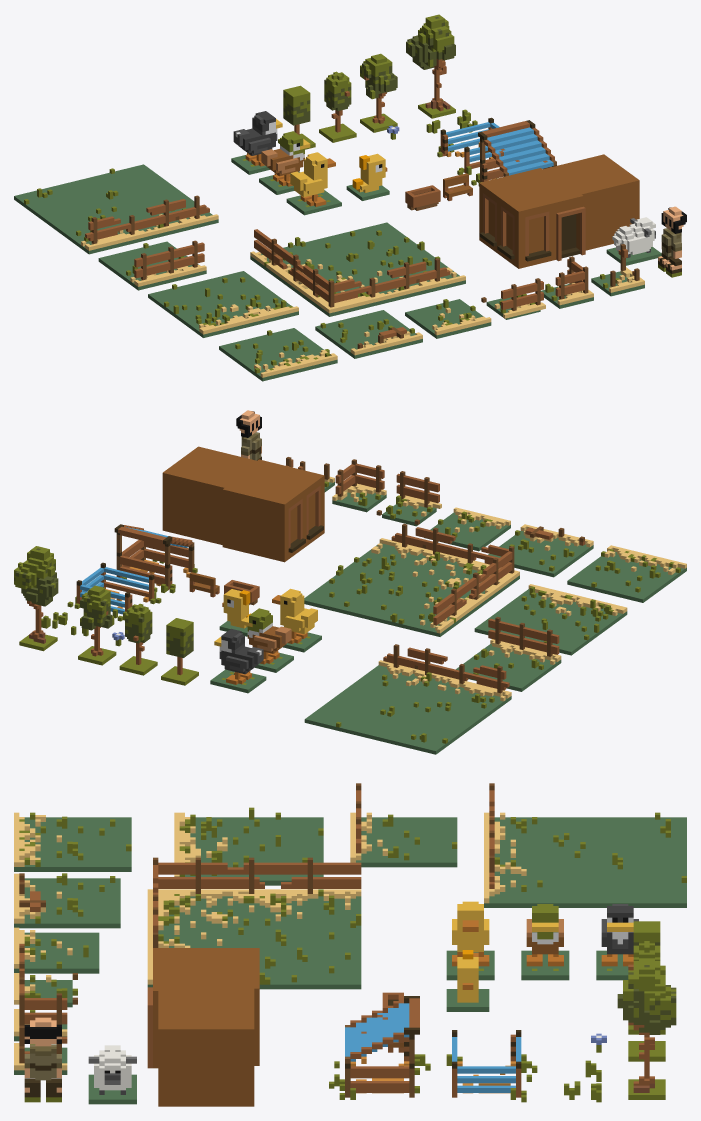
File: Cow.obj
3 renders of one model, top to bottom at view 1: azimuth 30°, elevation 25°; view 2: azimuth 150°, elevation 25°; view 3: azimuth 270°, elevation 25°, orthographic. The views are drawn at different scales.
Bounding box in the file's own units: 126 × 26 × 126.
1 material, 1 textured.
